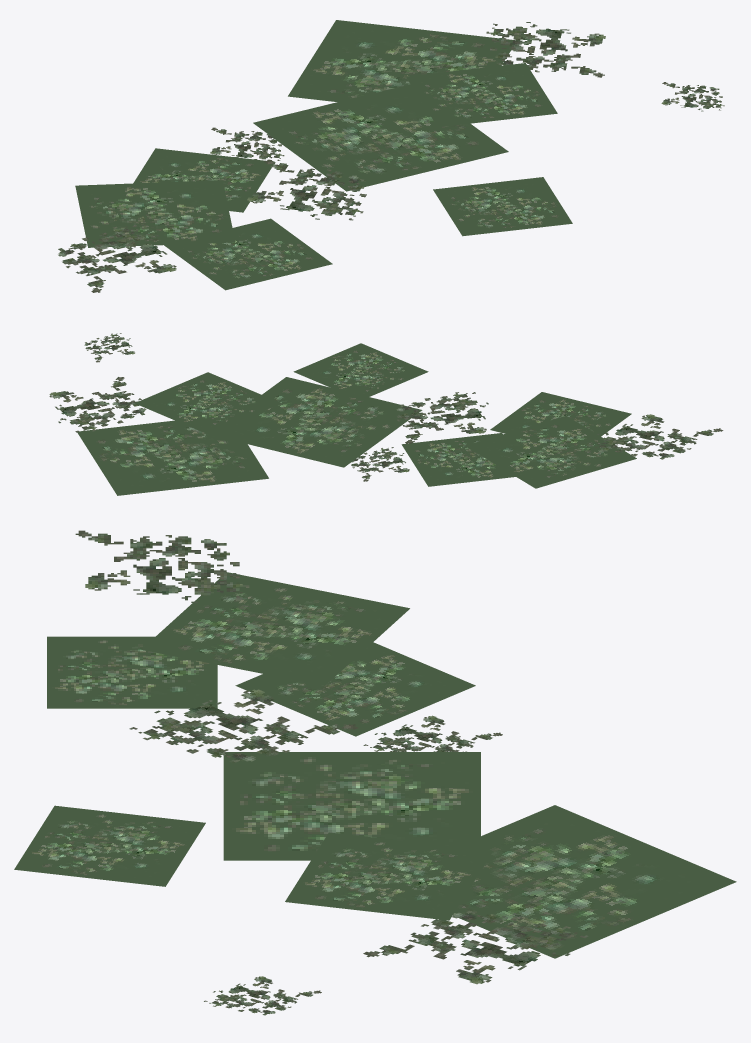
3 views of the same model, one above another, from view 1: azimuth 30°, elevation 25°; view 2: azimuth 150°, elevation 25°; view 3: azimuth 270°, elevation 25° (orthographic). The views are drawn at different scales.
Visible parts, largest first — view 1: wj14; view 2: wj14; view 3: wj14.
Boxes of the visible parts, x1,y1,x2,y2 form: wj14: [58, 20, 724, 292]; wj14: [49, 333, 723, 495]; wj14: [14, 530, 736, 1015].
Size of the model in its own units: 566 by 18.43 by 357.
